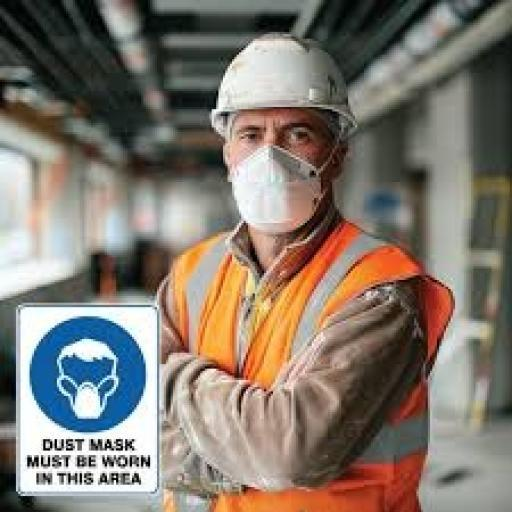mask: (212, 138, 319, 238)
